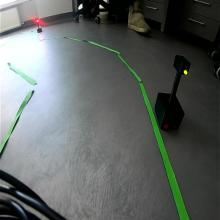green: (172, 54, 191, 76)
